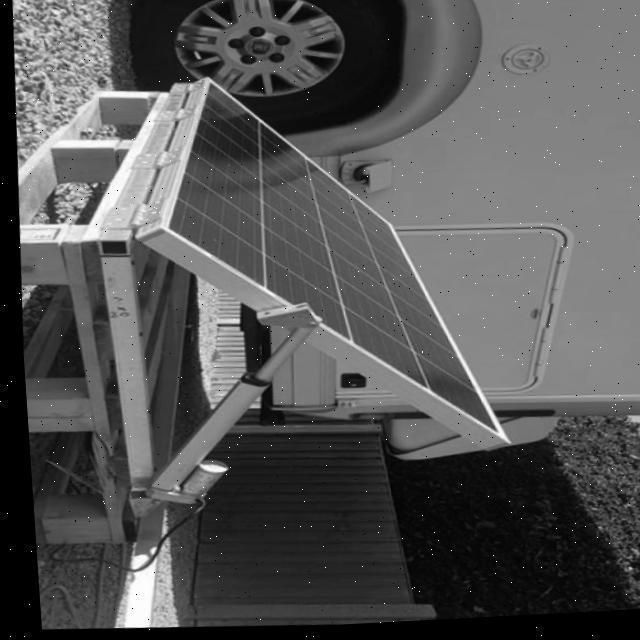Normal Solar Panel: (134, 67, 506, 461)
